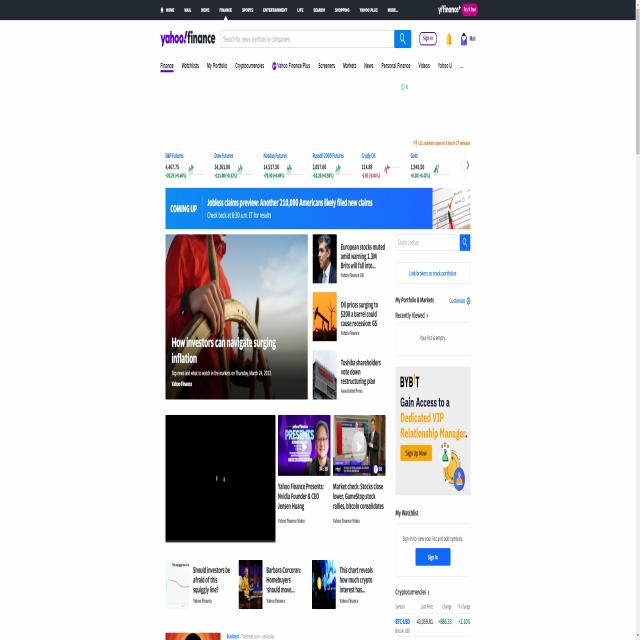menu-bar: (417, 25, 479, 48)
search: (218, 28, 412, 49)
side-panel: (394, 230, 473, 640)
tab-bar: (158, 57, 469, 77), (158, 2, 402, 17)
